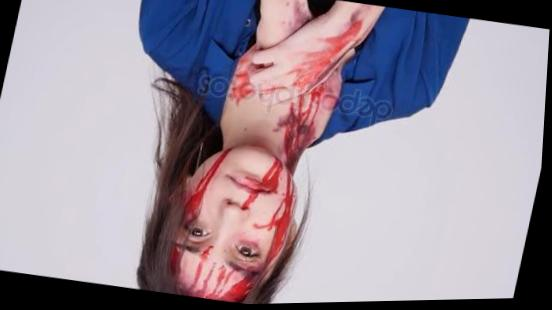Fire: (177, 2, 384, 303)
